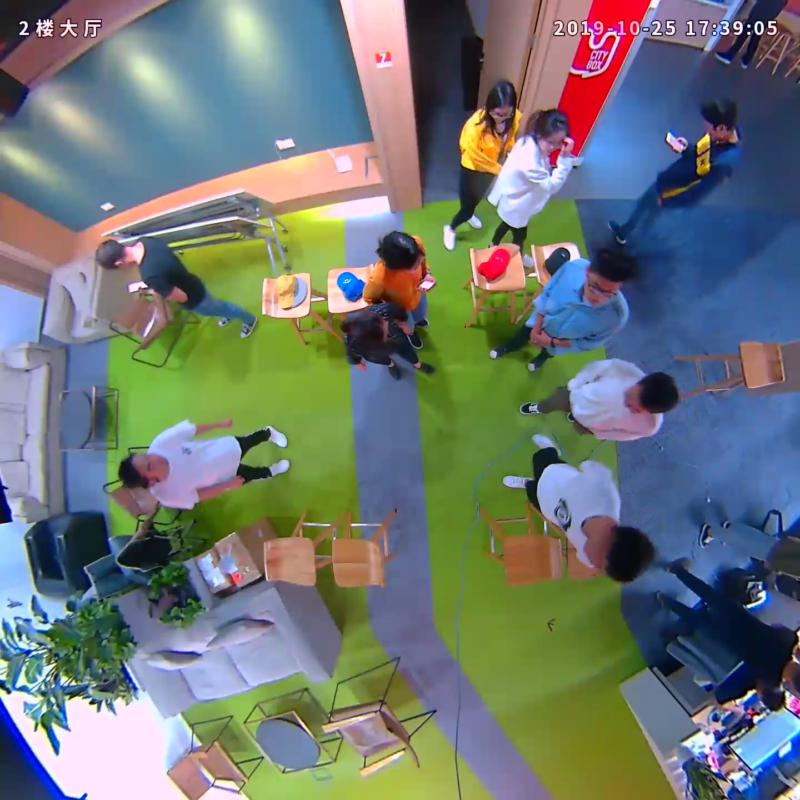head: (582, 526, 657, 583), (584, 248, 632, 308), (625, 371, 679, 417), (344, 309, 389, 352), (118, 451, 168, 487), (701, 95, 737, 142), (380, 231, 423, 270), (536, 108, 569, 156), (485, 80, 517, 124), (95, 239, 128, 269)
